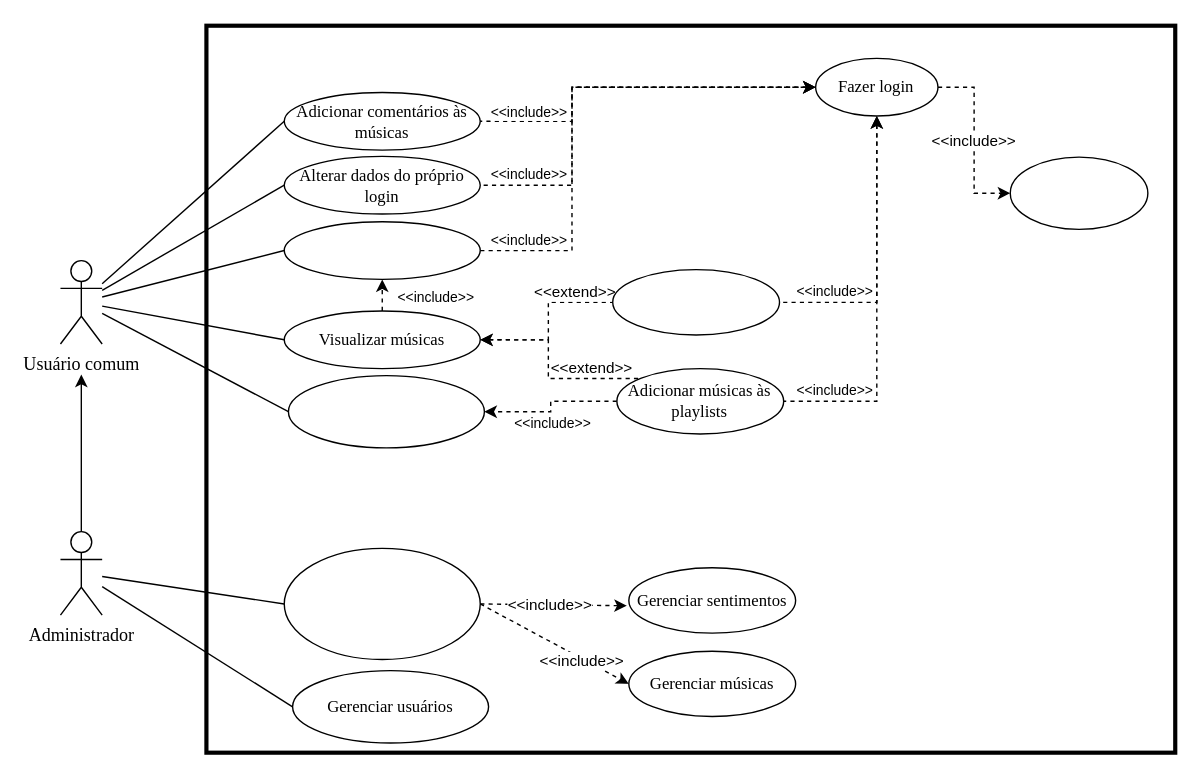
The diagram is 1201 pixels wide and 778 high, and some of its shapes have lost their labels. Here are the shapes that lost their labels. From the top down, the centre of each, then its label:
At (x=1078, y=192): "Criar conta no sistema".
At (x=381, y=249): "Pesquisar por sentimentos".
At (x=695, y=301): "Favoritar músicas".
At (x=385, y=411): "Criar playlists pessoais/personalizadas".
At (x=381, y=603): "Gerenciar a ligação entre músicas-sentimentos".
